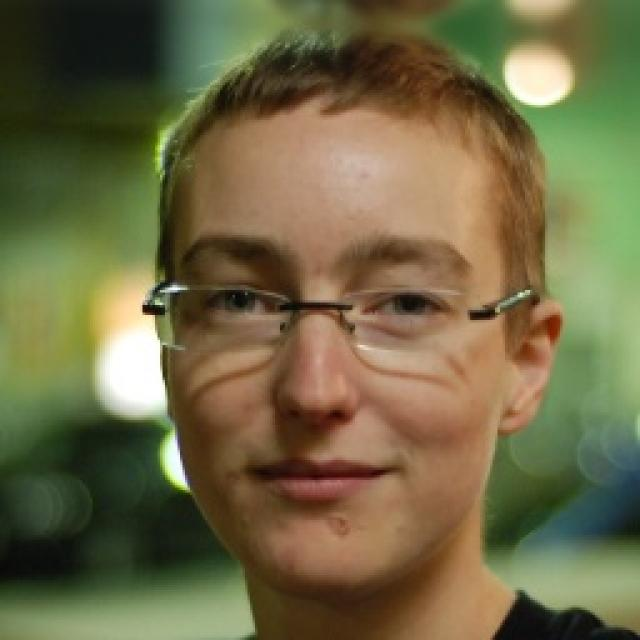glasses: (128, 256, 538, 366)
